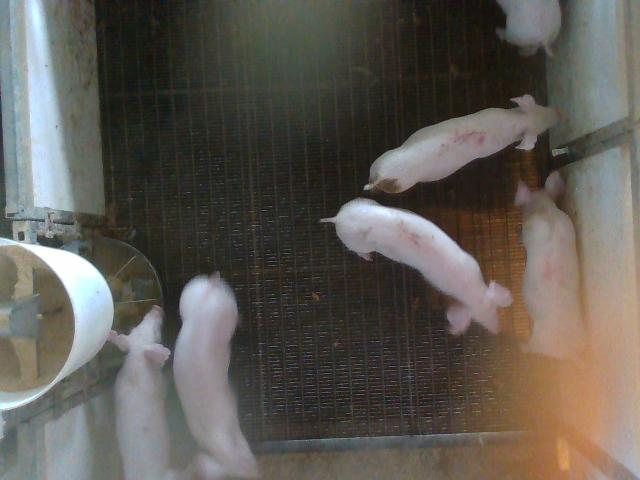pig-4: (515, 171, 585, 358)
pig-5: (364, 95, 558, 192)
